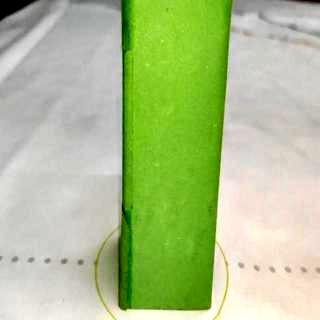greenbox: (118, 0, 238, 312)
